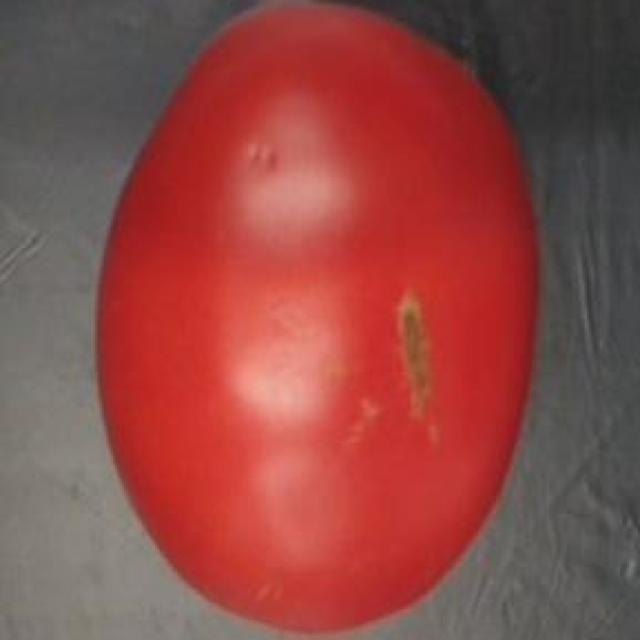overripe tomato: (80, 0, 558, 640)
